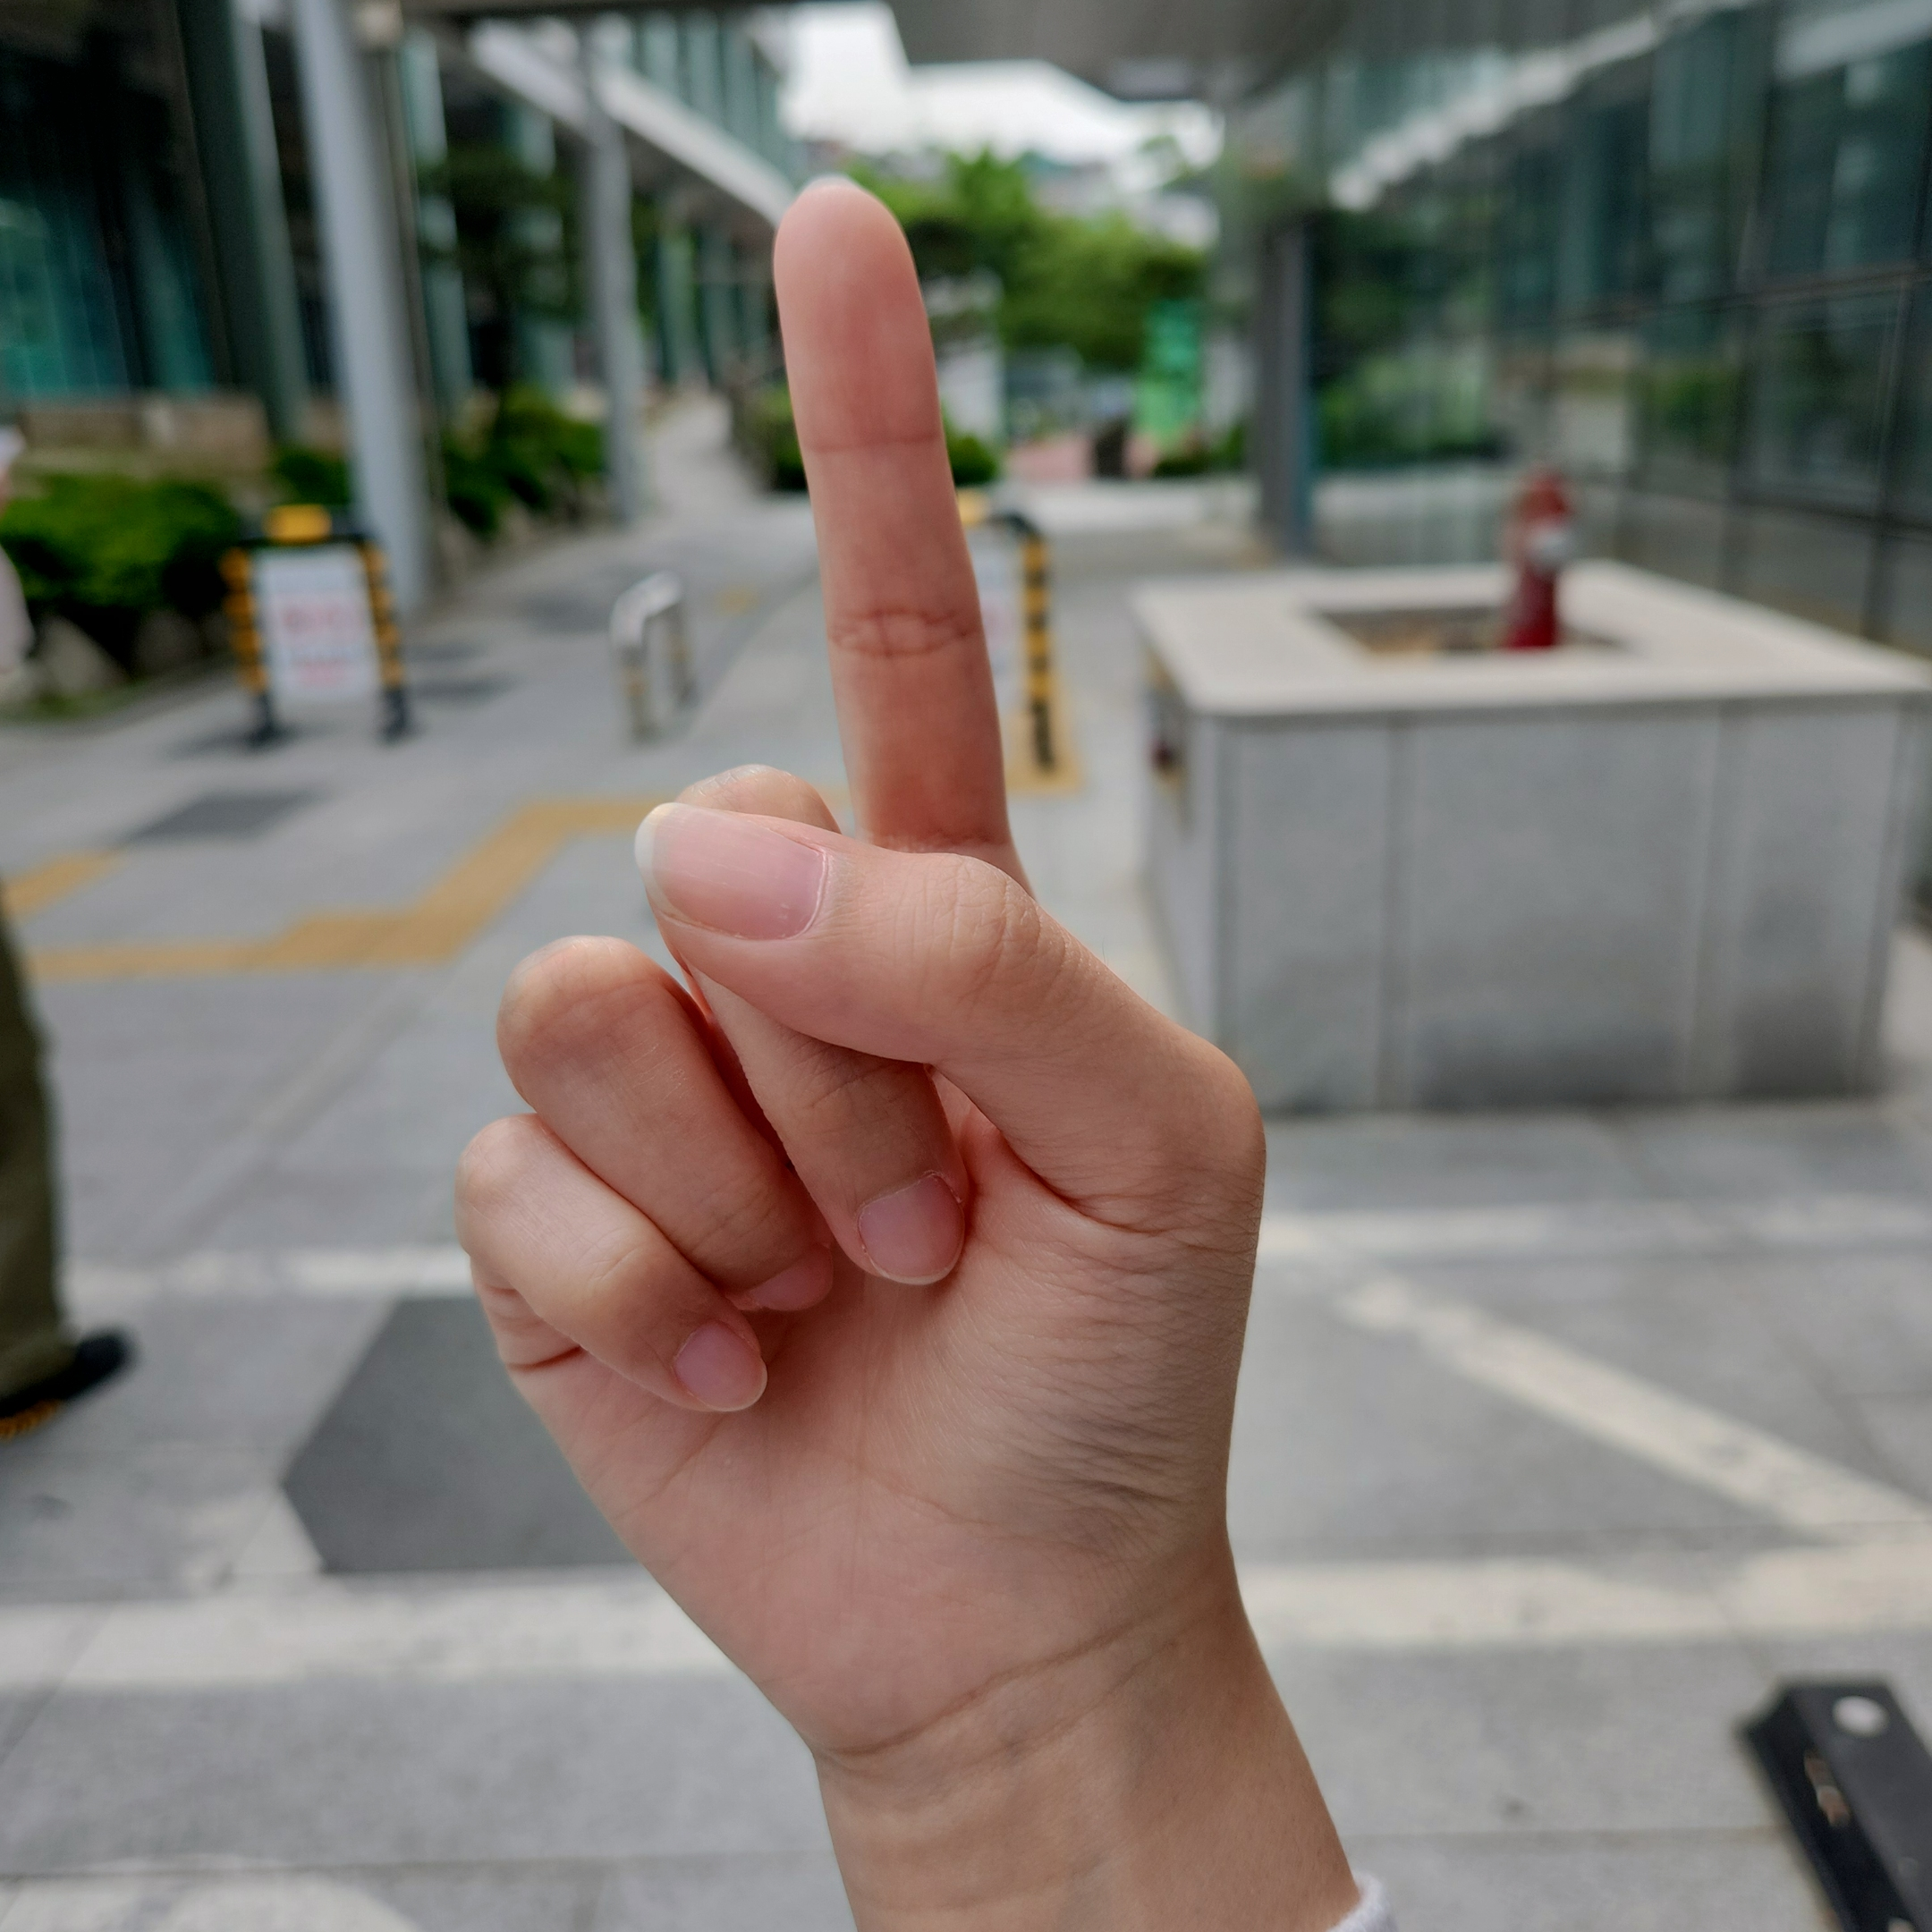what: (452, 174, 1279, 1755)
